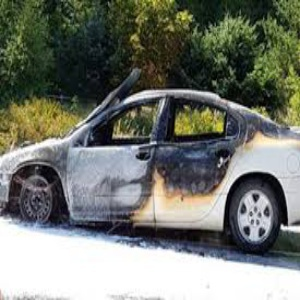door: (77, 147, 222, 222)
